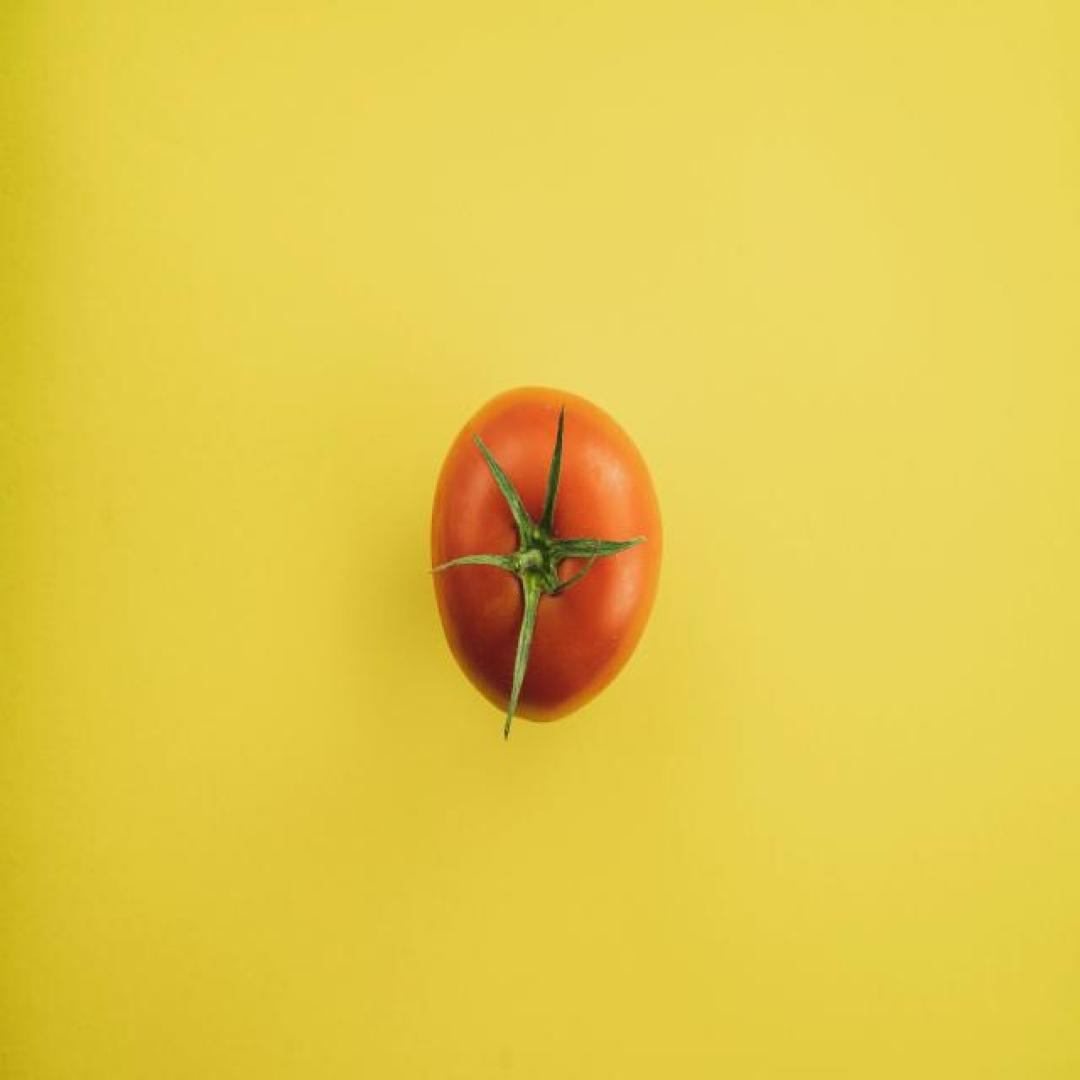matang: (431, 383, 664, 743)
